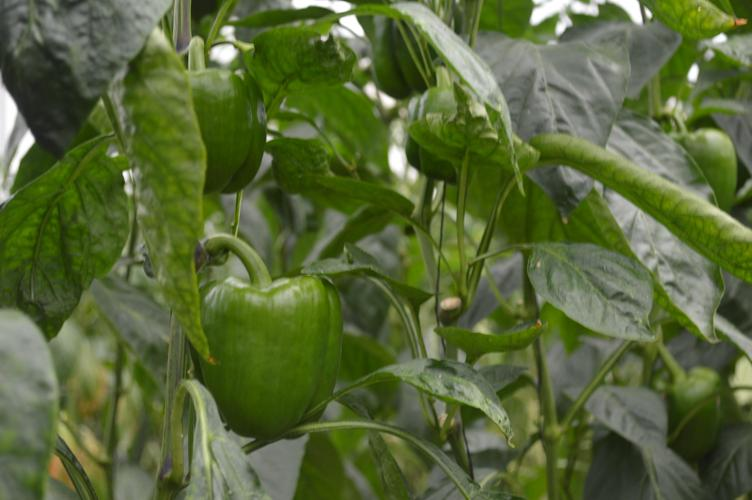BellPepper: (191, 279, 359, 448), (170, 53, 278, 194), (633, 362, 728, 469), (663, 119, 737, 211)
